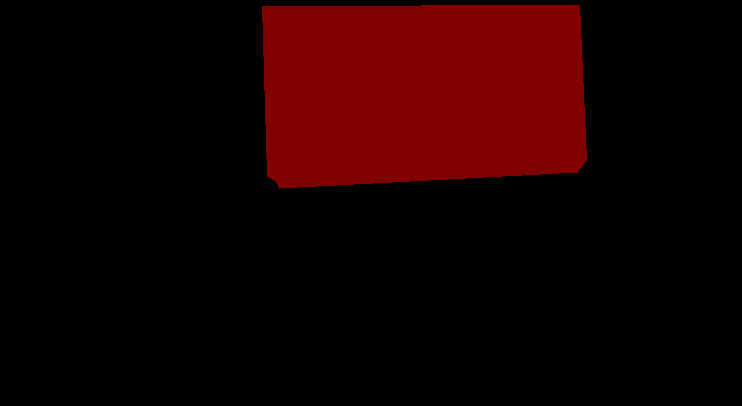sign: (262, 4, 586, 188)
